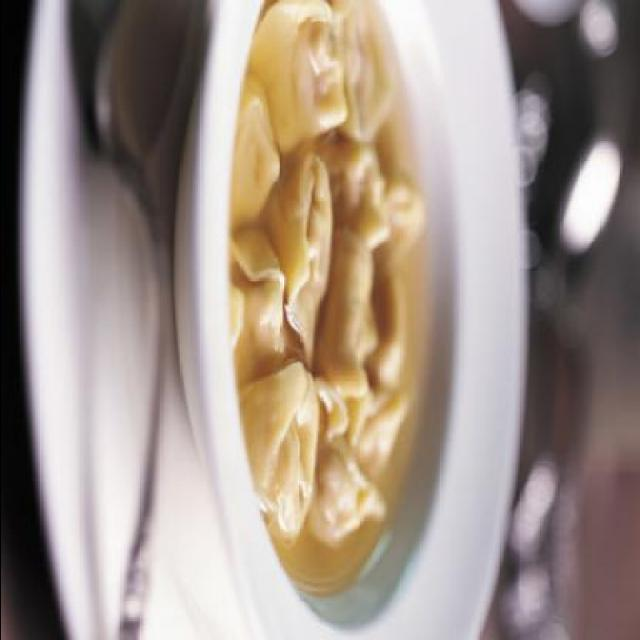Tortellini in broth: (242, 14, 460, 510)
